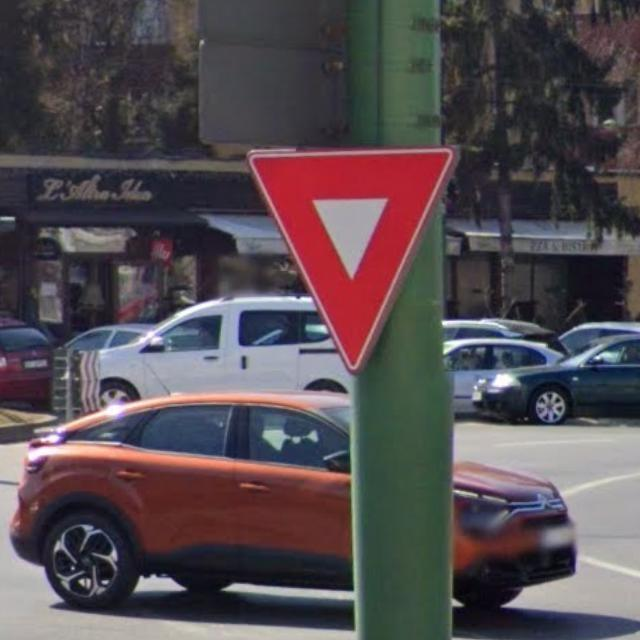prio_give_way: (240, 148, 451, 372)
